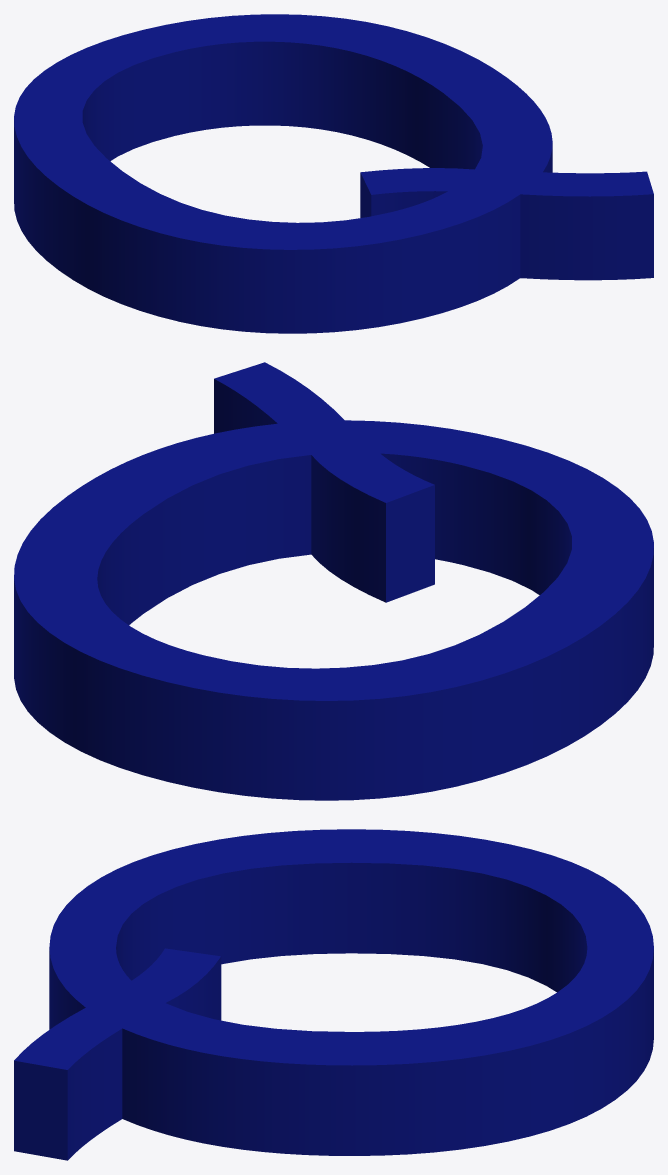
3 views of the same model, one above another, from view 1: azimuth 30°, elevation 25°; view 2: azimuth 150°, elevation 25°; view 3: azimuth 270°, elevation 25° (orthographic). The views are drawn at different scales.
Parts seen in each view (by area): view 1: TextPlus017; view 2: TextPlus017; view 3: TextPlus017.
Part boxes in pixels (x1,y1,x2,y2): TextPlus017: (14, 14, 653, 333); TextPlus017: (14, 362, 653, 800); TextPlus017: (14, 829, 653, 1160).
Bounding box in the file's own units: 25 × 4.38 × 28.08.
